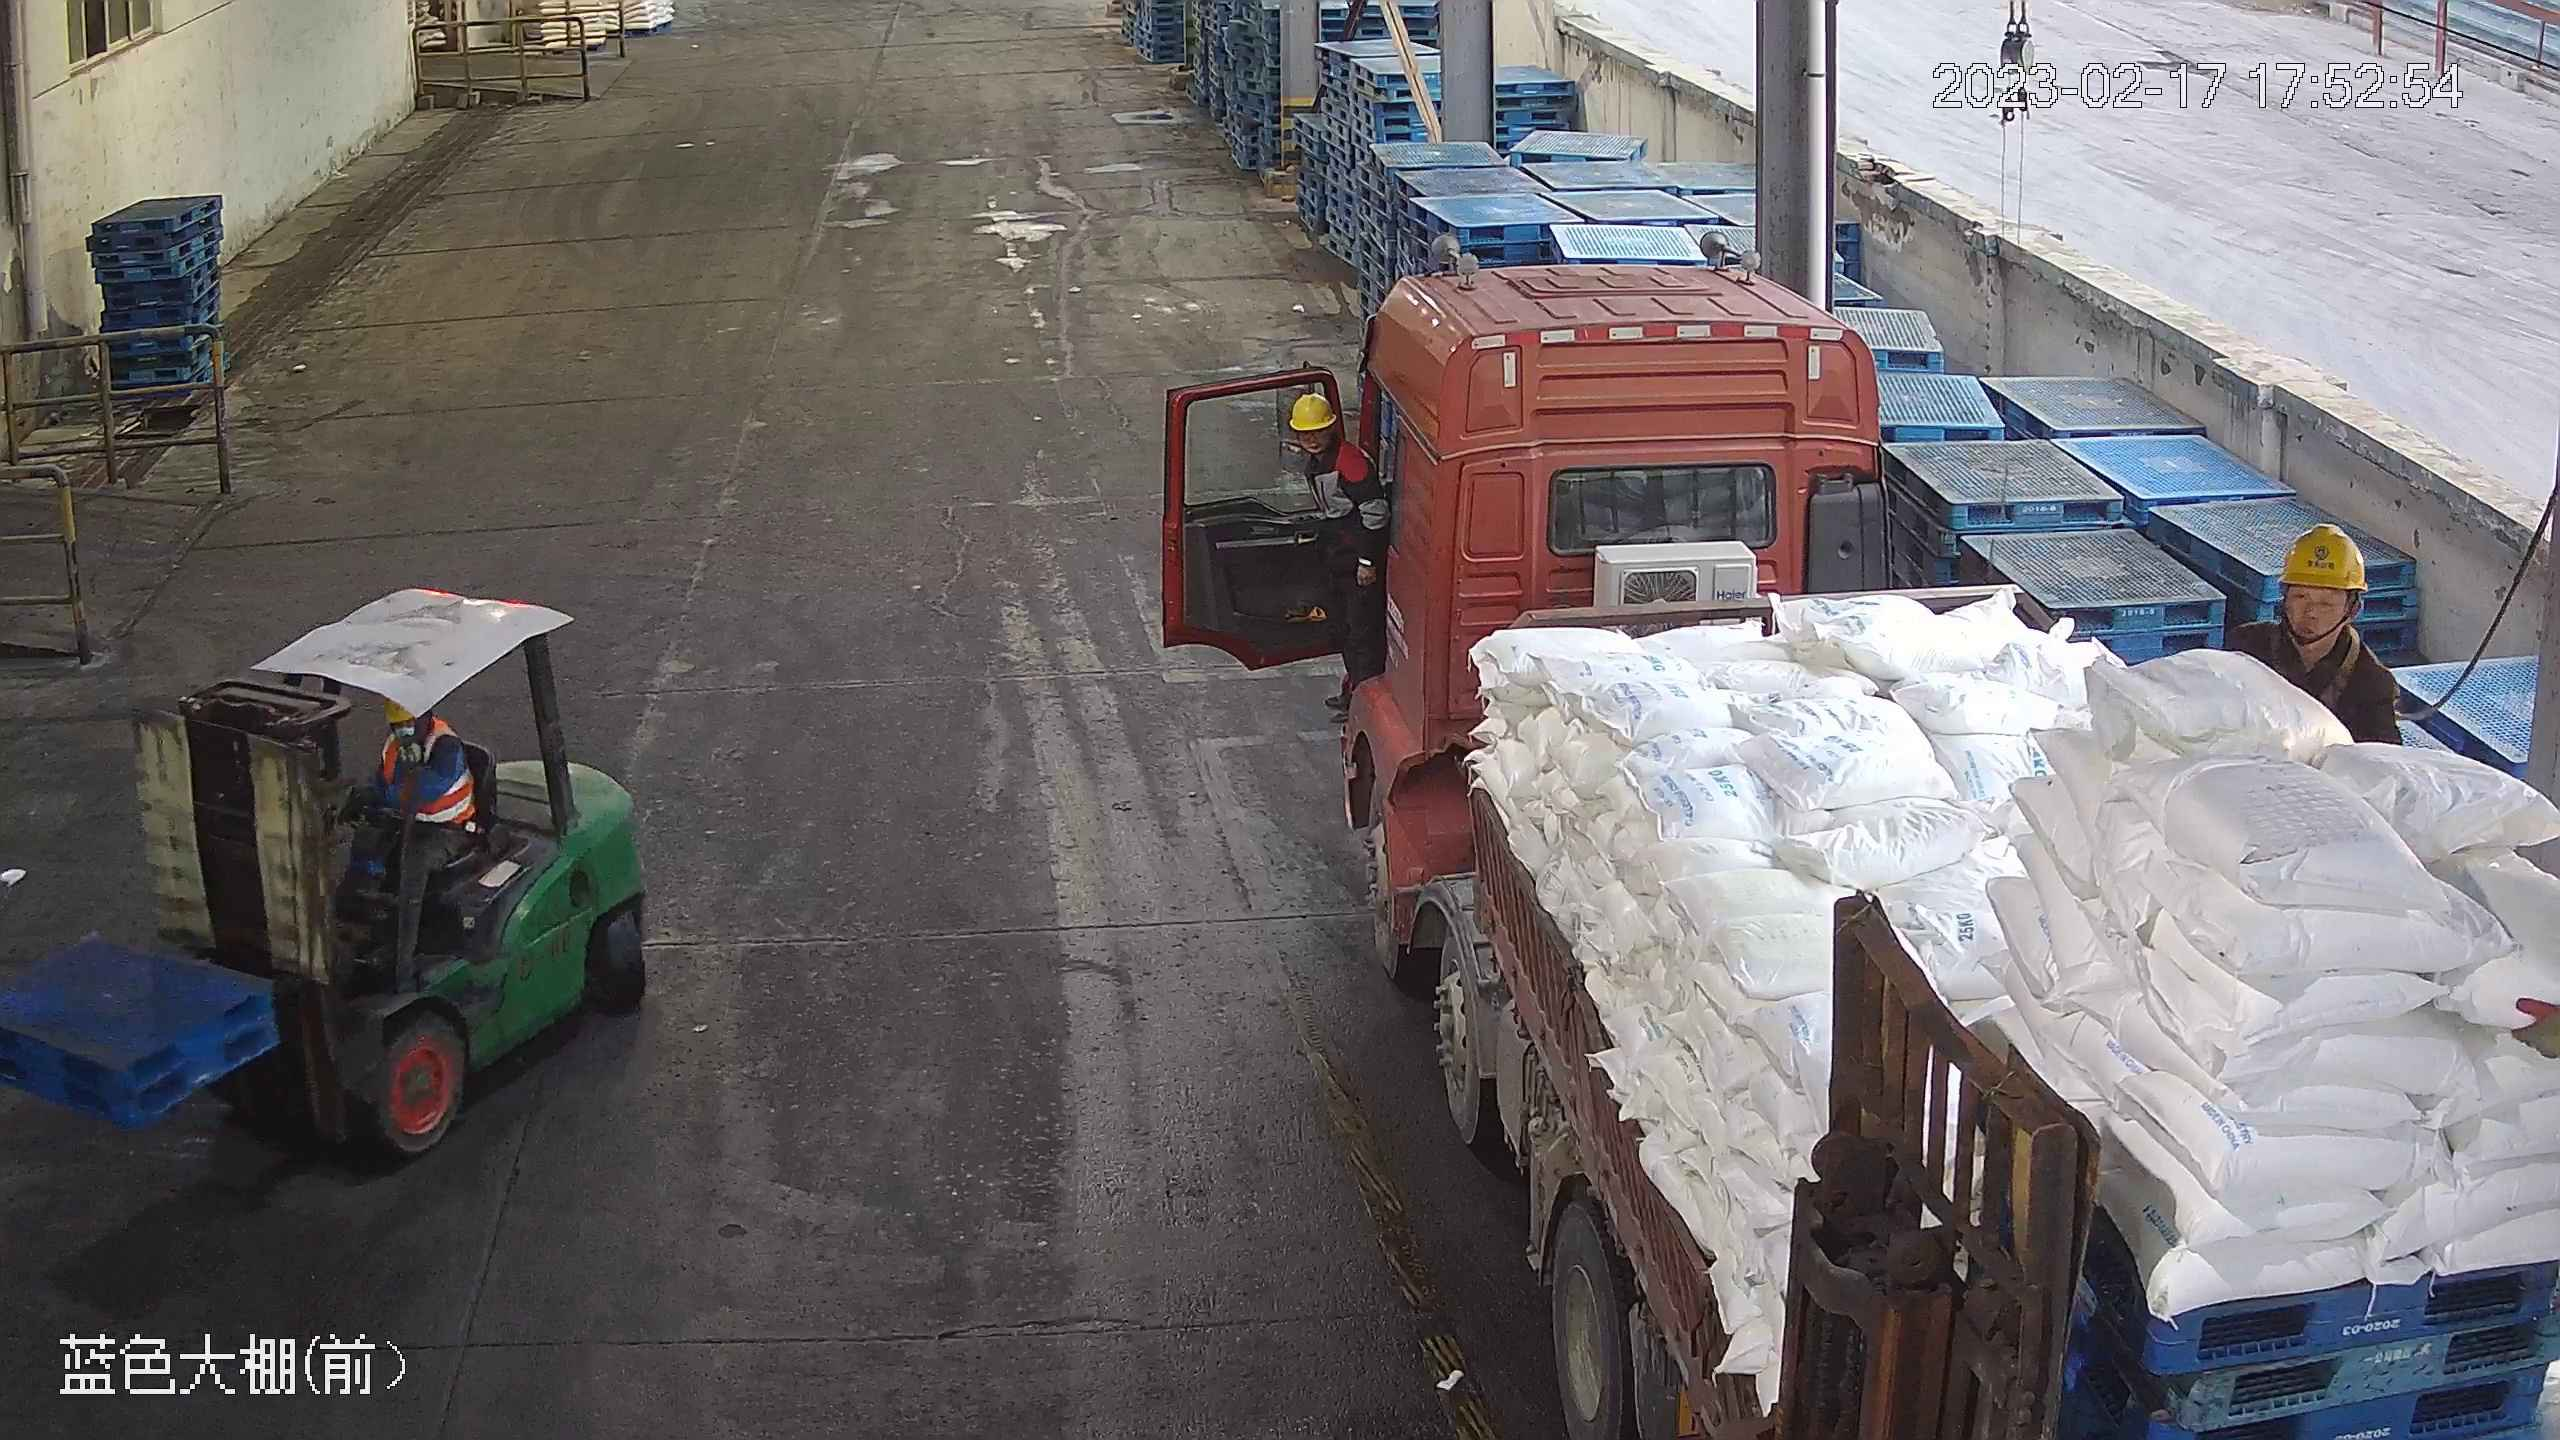belt: (2230, 523, 2404, 695), (2268, 617, 2383, 692)
head: (2230, 520, 2406, 691), (1287, 394, 1376, 493)
helmet: (2277, 520, 2368, 590), (1286, 393, 1338, 433)
people: (1287, 392, 1391, 725)
truck: (1145, 230, 2560, 1440)
